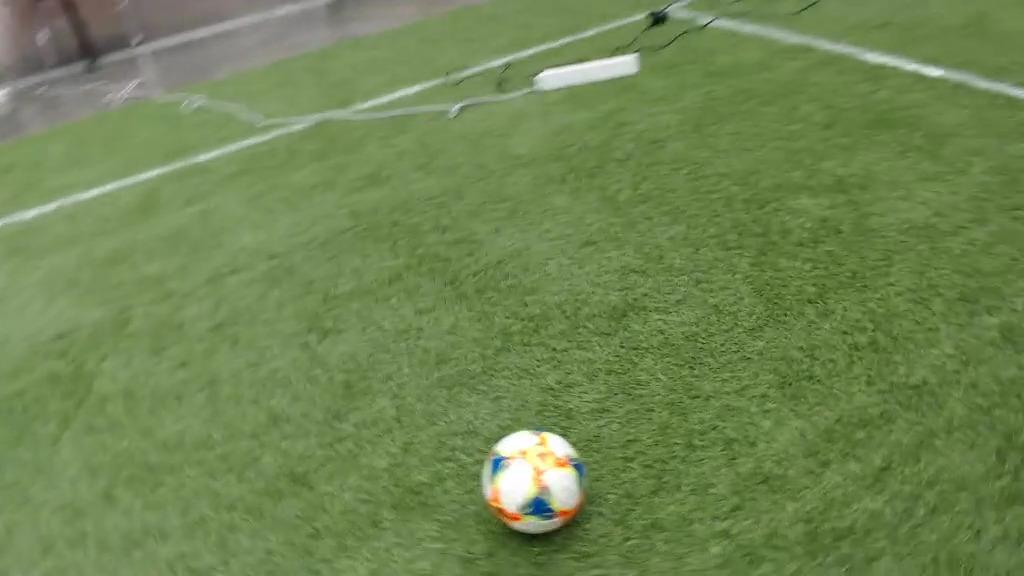ball: (481, 428, 586, 535)
